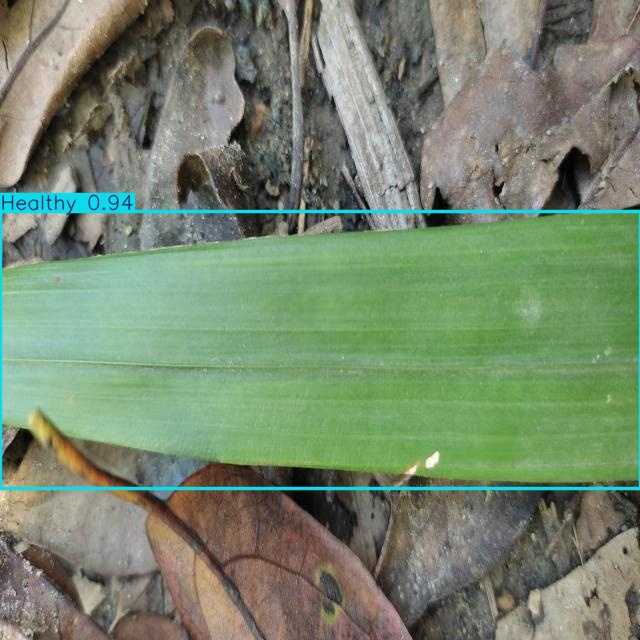Healthy: (1, 211, 640, 488)
